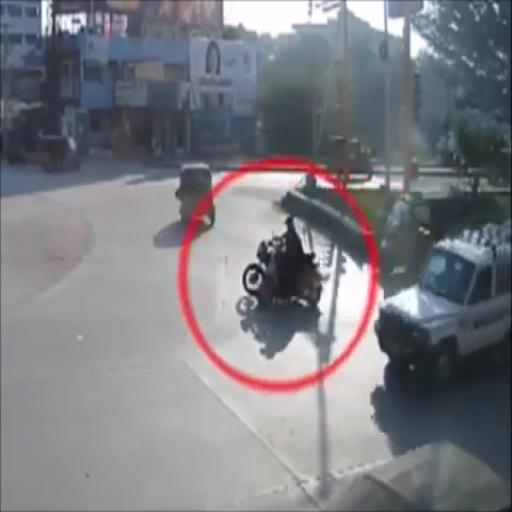小汽车: (375, 228, 509, 380), (178, 164, 216, 226)
自行车: (240, 213, 324, 309)
